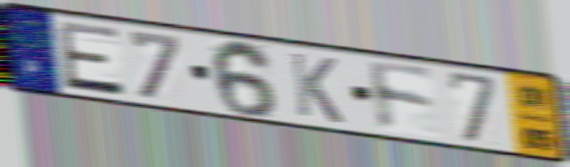6: (207, 36, 281, 120)
7: (127, 27, 185, 104), (445, 68, 500, 146)
E: (55, 19, 128, 99)
F: (364, 57, 439, 134)
K: (286, 49, 346, 127)
